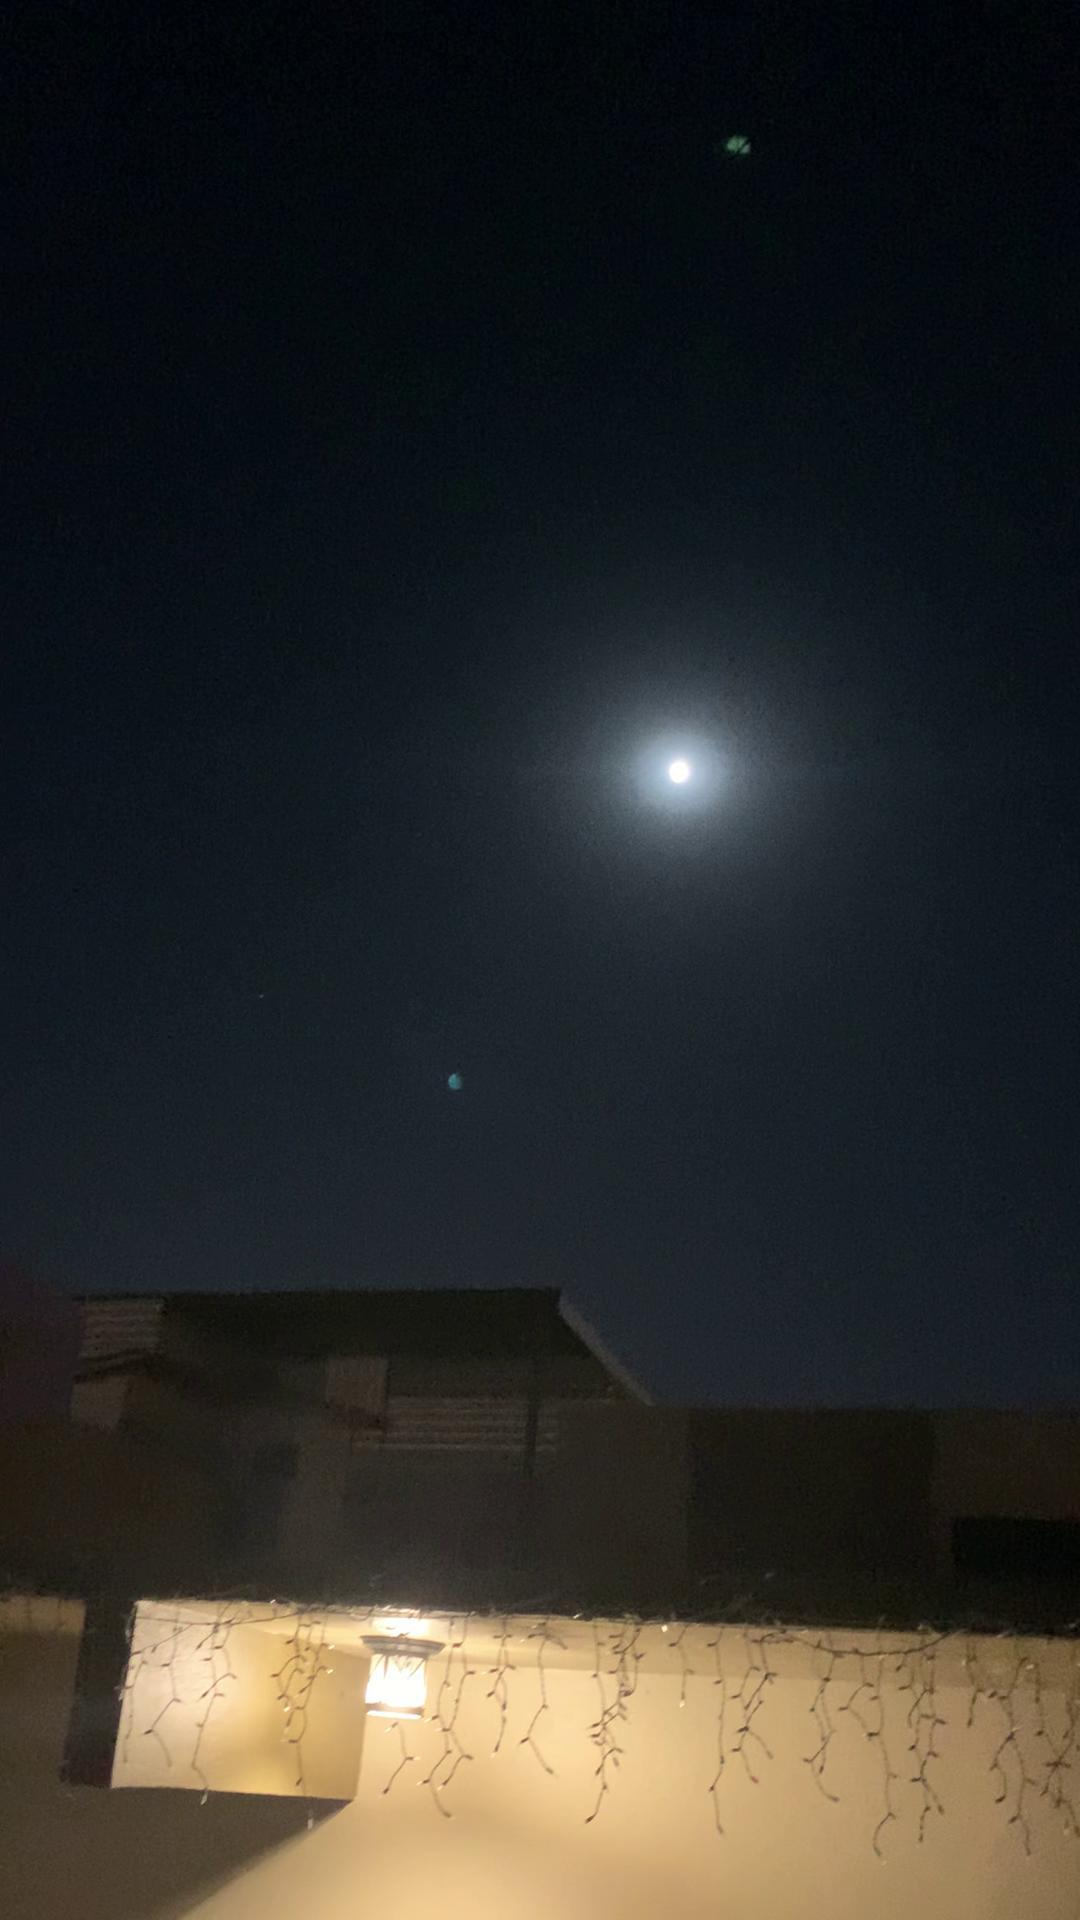moon: (632, 732, 719, 811)
